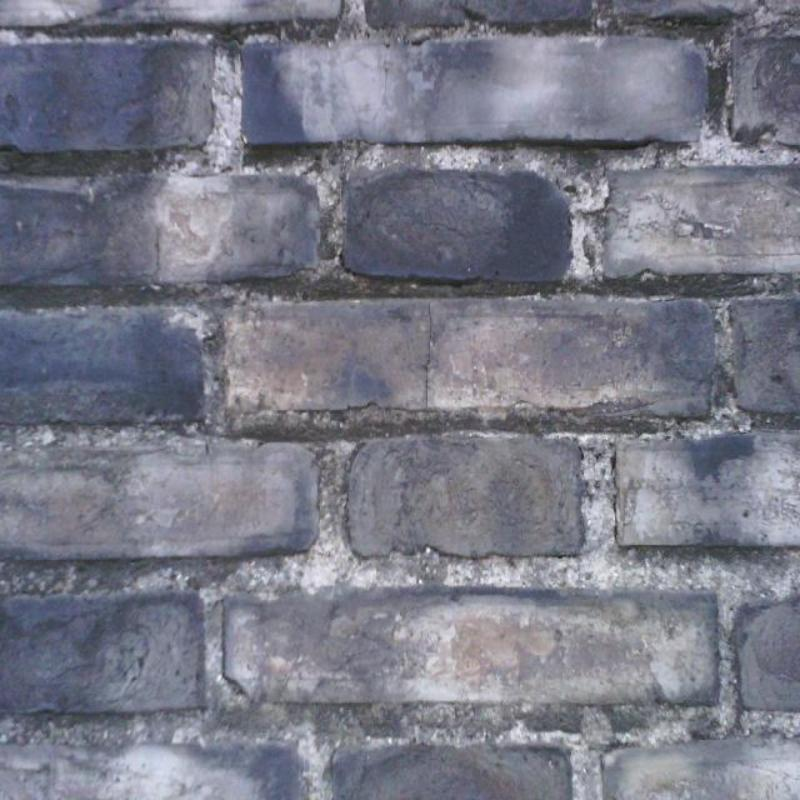pothole: (425, 301, 432, 408)
